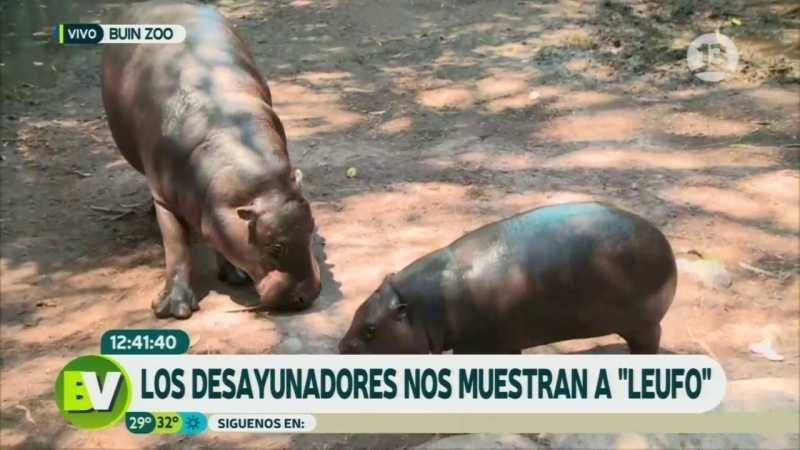hipopotamo: (94, 1, 336, 335), (324, 195, 674, 355)
